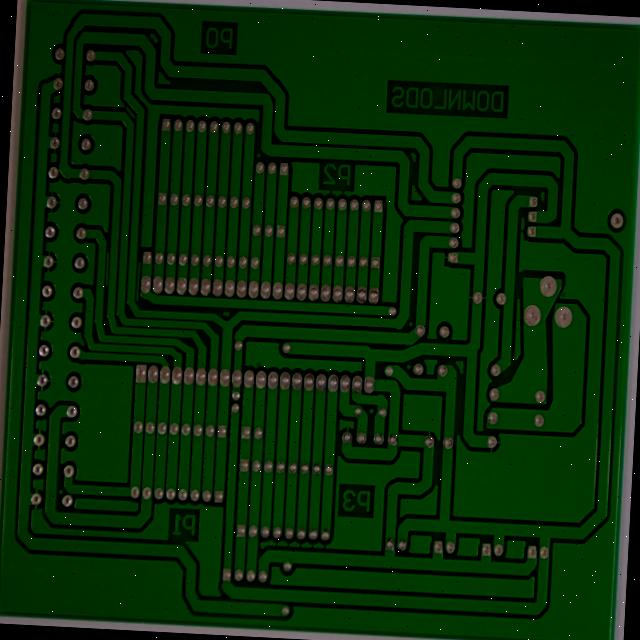spurious_copper: (139, 229, 152, 278), (108, 217, 118, 260), (129, 59, 146, 78)
